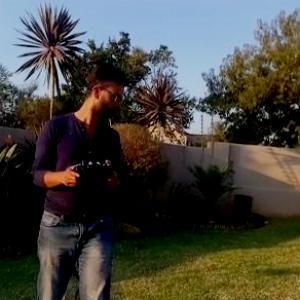follow: (27, 55, 129, 299)
